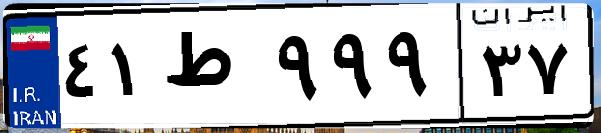1: (110, 28, 158, 98)
3: (475, 38, 525, 113)
4: (57, 26, 110, 100)
7: (525, 38, 570, 115)
9: (270, 28, 330, 110), (385, 28, 445, 110), (330, 28, 385, 110)
ط: (158, 20, 270, 120)
